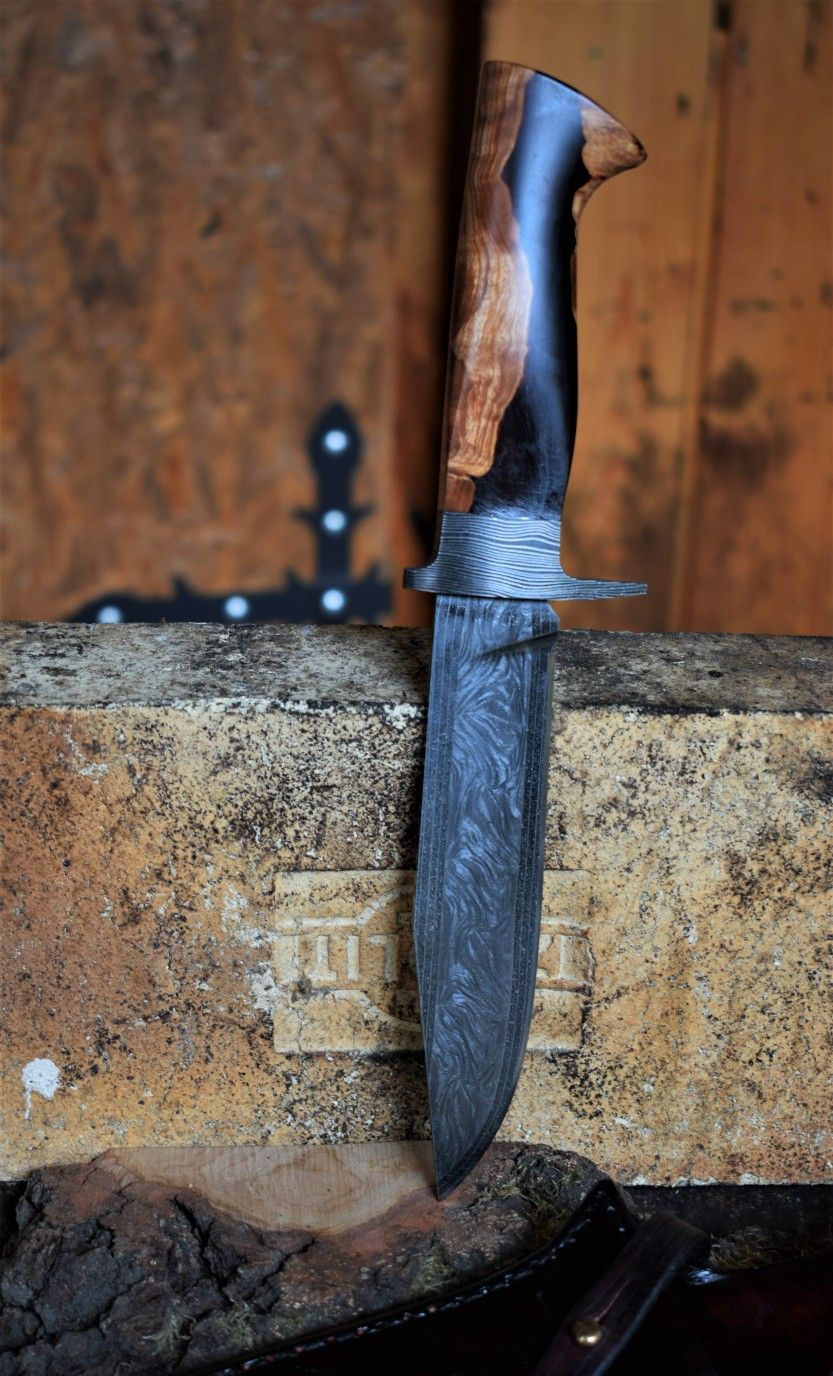knife: (386, 45, 667, 1224)
